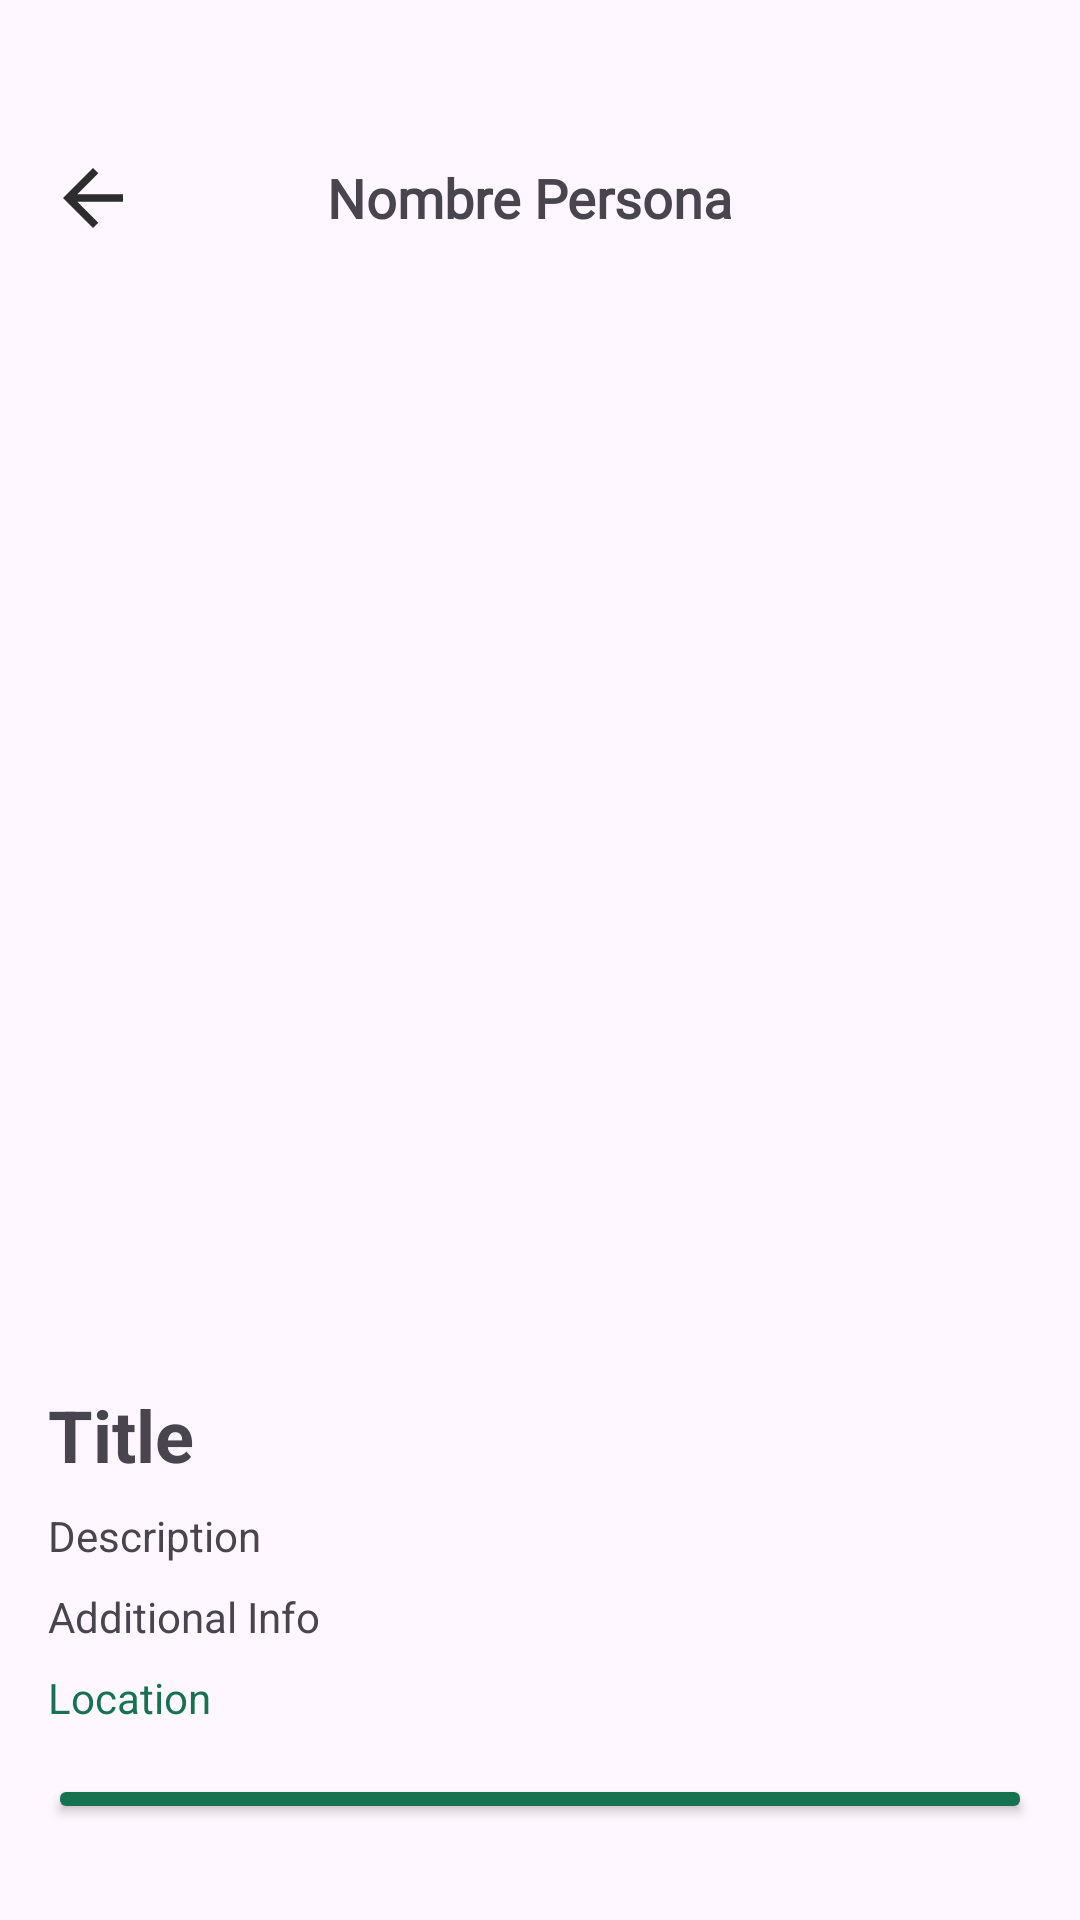

Locate icon controls on the screen. Image size 1080w x 1920h, boxes as (x1, y1, x2, y2).
Back: (63, 168, 123, 228)
